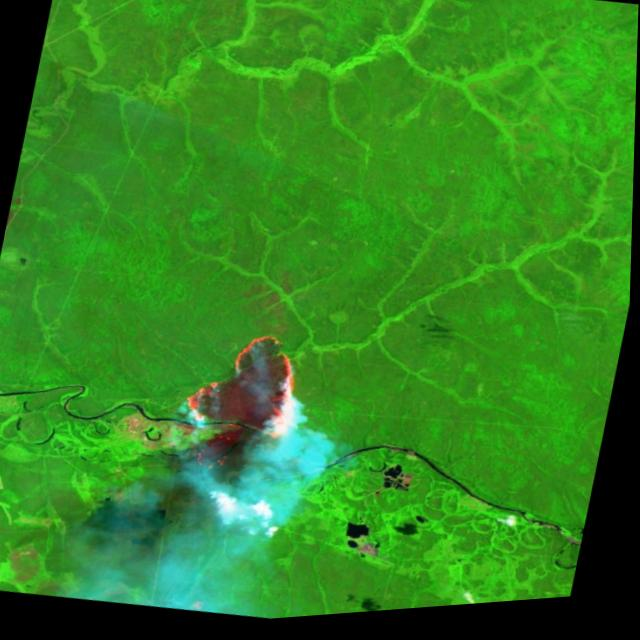fire: (167, 319, 315, 492)
